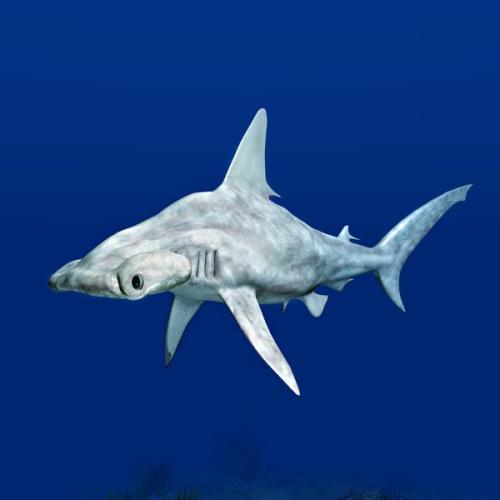shark-endangered: (48, 109, 473, 392)
